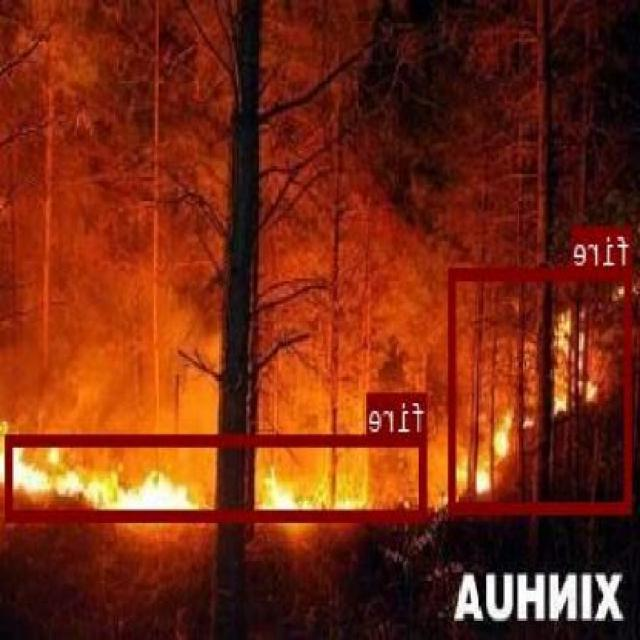Fire: (451, 266, 632, 512), (6, 434, 428, 520)
